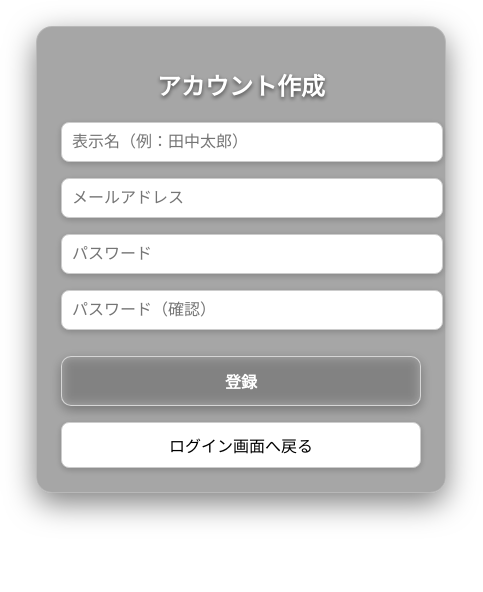
SignUpPage › パスワード不一致でエラーが表示される
The width and height of the screenshot is (483, 592).
In the field with placeholder "表示名（例：田中太郎）": (252,142) 61,122 -> 443,162, type "テスト"
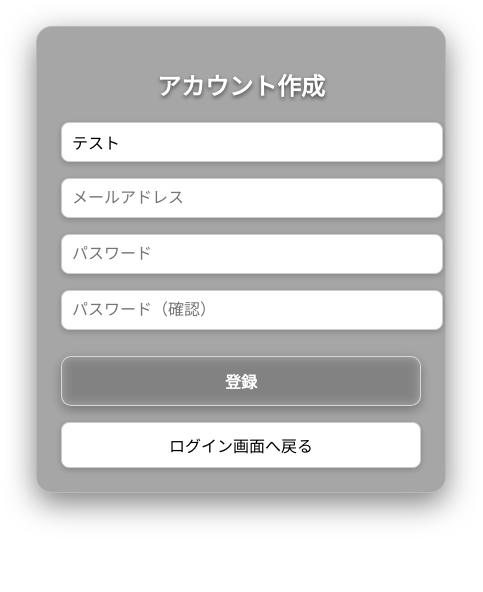
In the field with placeholder "メールアドレス": (252,198) 61,178 -> 443,218, type "test@example.com"
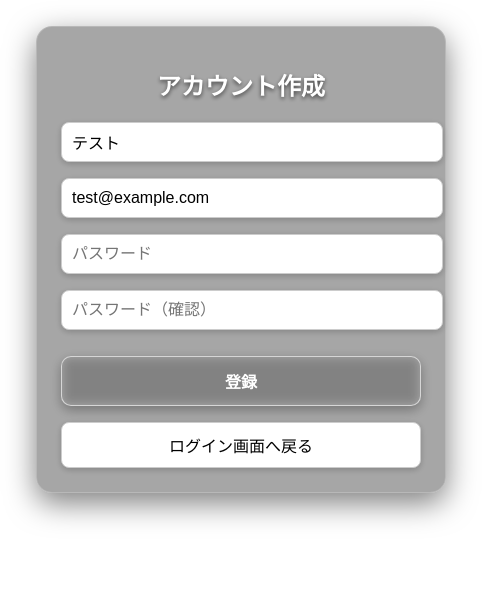
In the password field with placeholder "パスワード": (252,254) 61,234 -> 443,274, type "pass1"
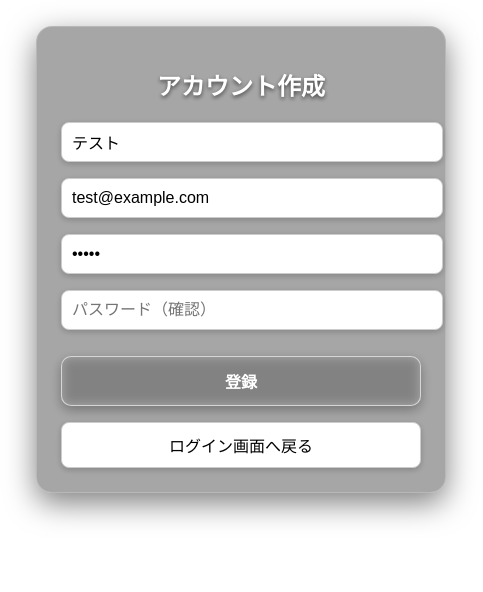
In the password field with placeholder "パスワード（確認）": (252,310) 61,290 -> 443,330, type "pass2"
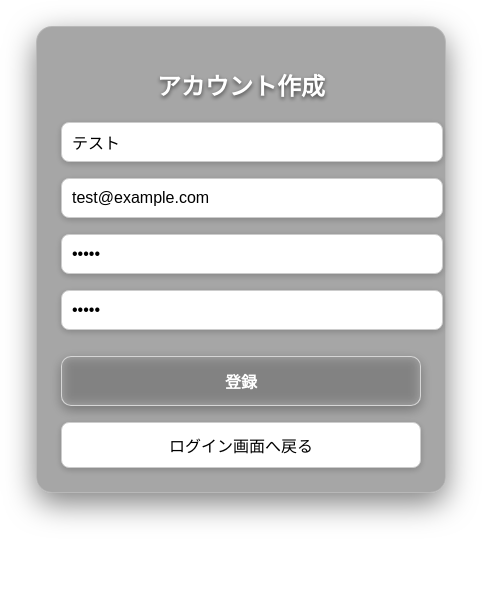
Click the button "登録": (241,381) 61,356 -> 421,406
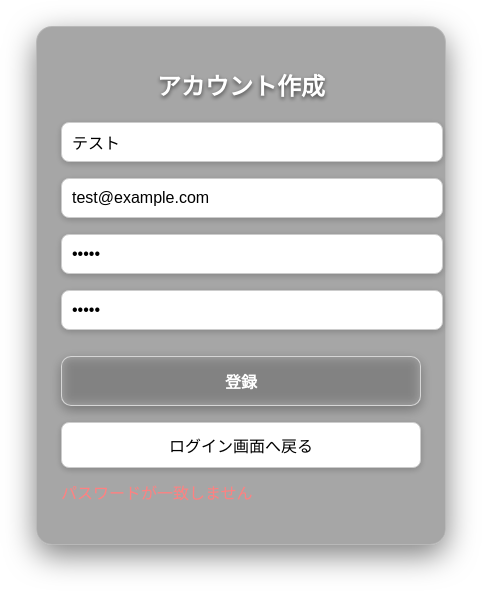
Now the text "パスワードが一致しません" is shown, box 61,485 -> 252,502
